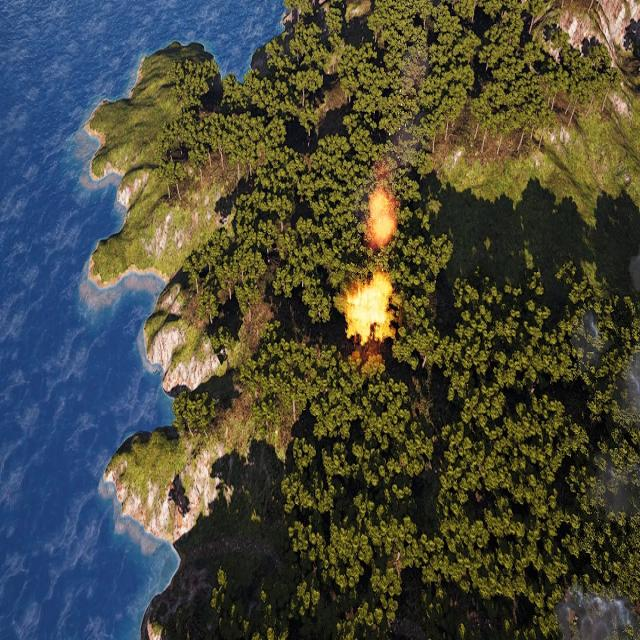fire: (343, 274, 394, 346), (367, 186, 397, 251)
smoke: (578, 310, 636, 512), (551, 594, 633, 640)
